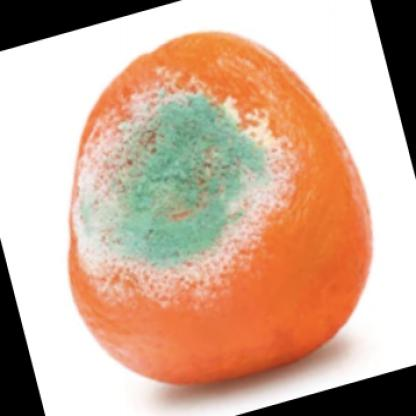rotten_orange: (51, 28, 389, 392)
